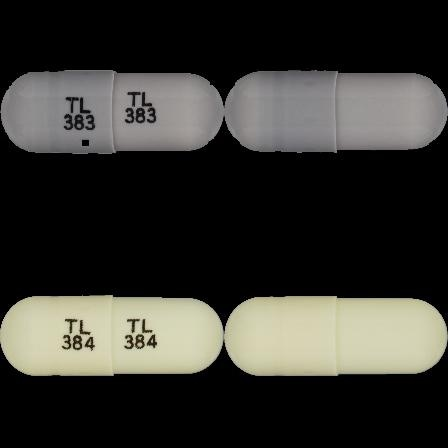59746-383: (0, 0, 224, 224)
